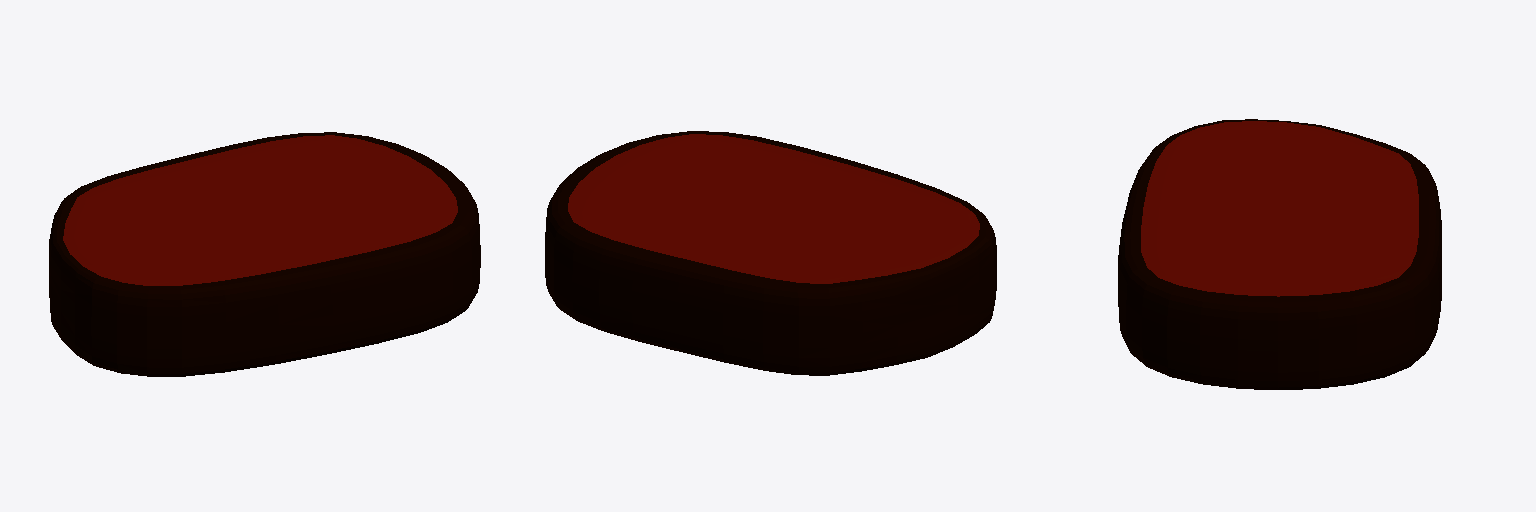
The model's file is Meat01.obj.
3 renders of one model, left to right at view 1: azimuth 30°, elevation 25°; view 2: azimuth 150°, elevation 25°; view 3: azimuth 270°, elevation 25°, orthographic.
Visible parts, largest first — view 1: Meat01_Cylinder.002; view 2: Meat01_Cylinder.002; view 3: Meat01_Cylinder.002.
Boxes of the visible parts, <box> form: Meat01_Cylinder.002: <box>49,132,480,376</box>; Meat01_Cylinder.002: <box>545,131,996,375</box>; Meat01_Cylinder.002: <box>1118,119,1441,389</box>.
Size of the model in its own units: 10.09 by 2.19 by 7.23.